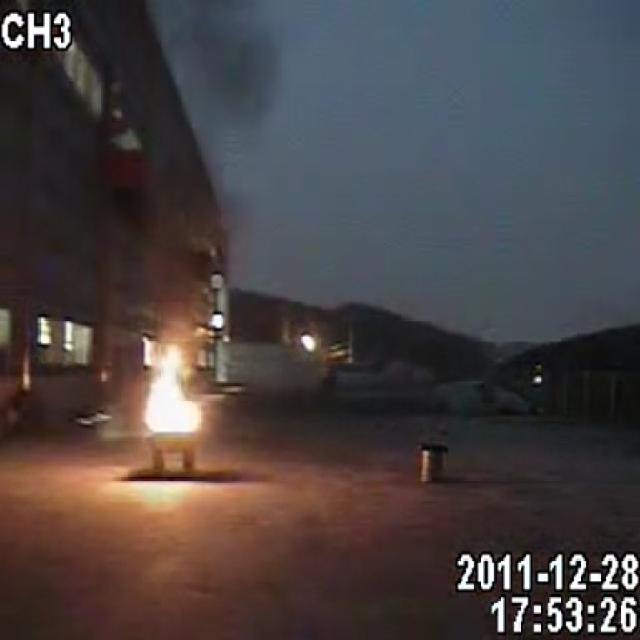Fire: (133, 338, 214, 432)
